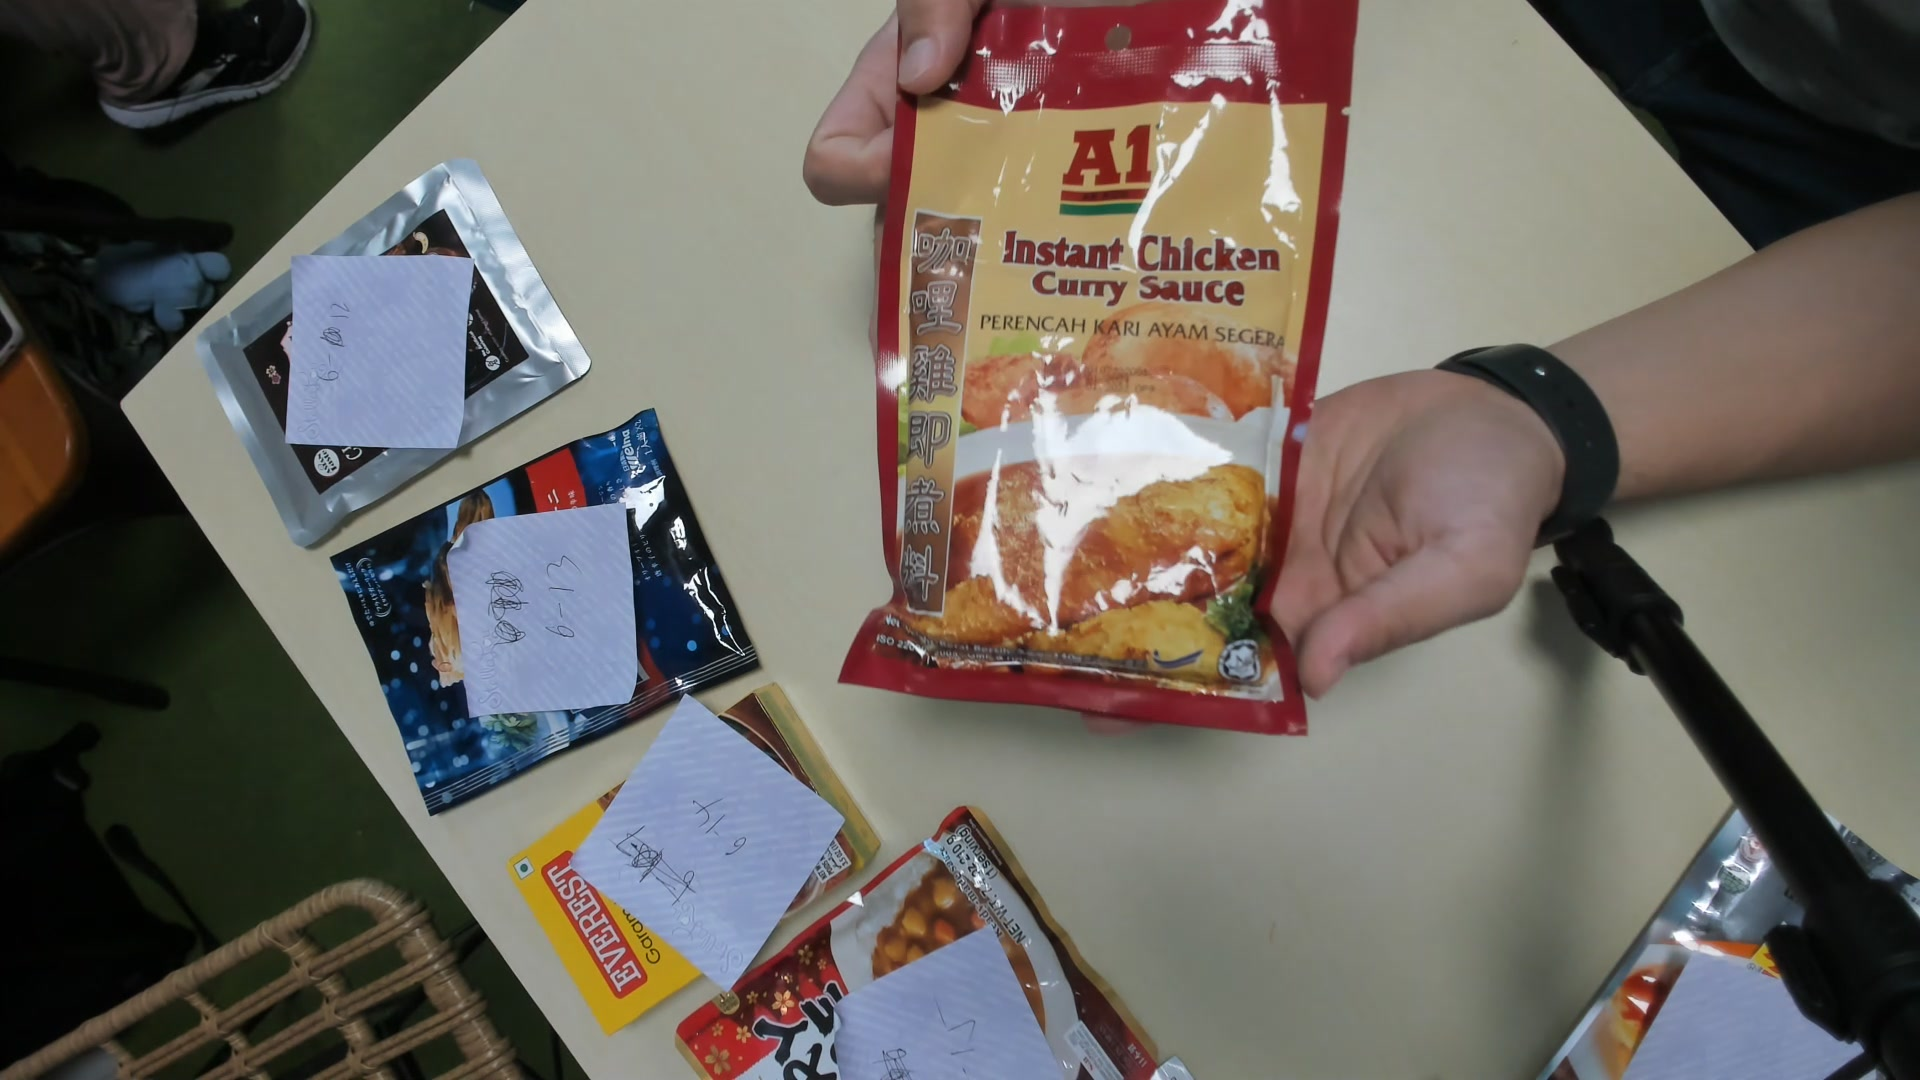CurryPastePowderSauce_200-299g_Halal_NonHealthy: (862, 9, 1327, 738)
